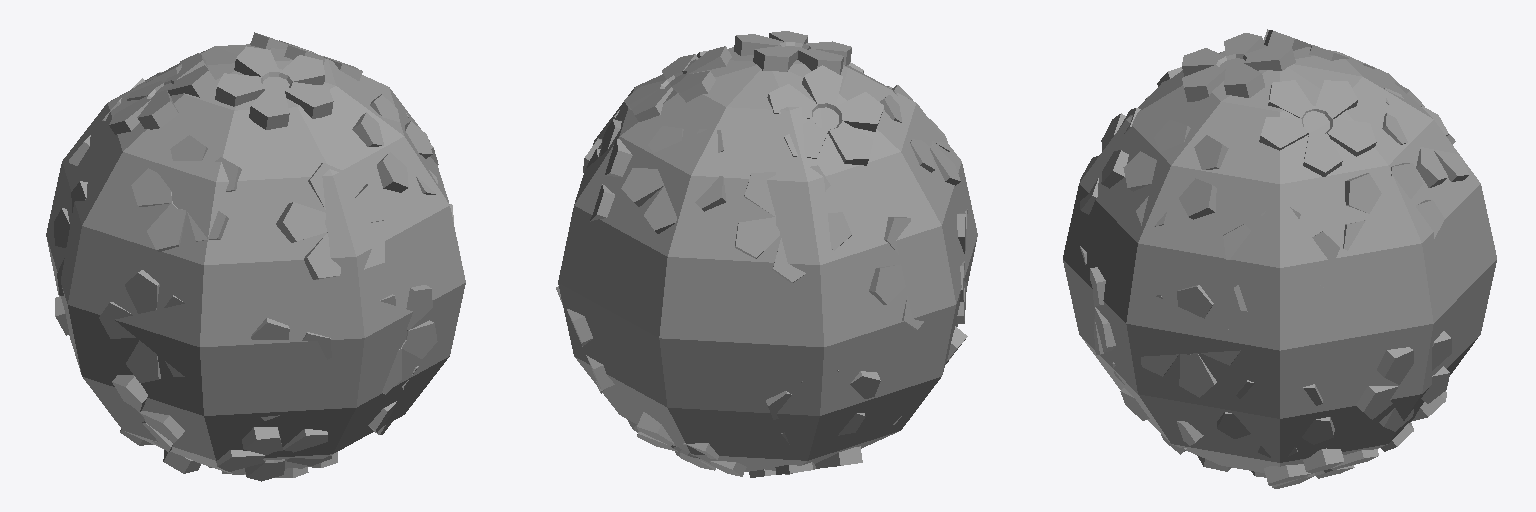
The model's file is papiloma.obj.
The picture shows the model from 3 angles: view 1: azimuth 30°, elevation 25°; view 2: azimuth 150°, elevation 25°; view 3: azimuth 270°, elevation 25°; orthographic projection.
Parts seen in each view (by area): view 1: Sphere.001, Plane.012, Plane.008_Plane.000, Plane.010_Plane.005, Plane.020_Plane.021, Plane.015_Plane.025, Plane.009_Plane.002, Plane.007_Plane.010, Plane.005_Plane.008, Plane.011, Plane.017_Plane.018, Plane.021_Plane.022 (+2 smaller); view 2: Sphere.001, Plane.020_Plane.021, Plane.014_Plane.017, Plane.012, Plane.019_Plane.020, Plane.021_Plane.022, Flor_Plane.014, Flor.001_Plane.023, Plane.010_Plane.005, Plane.004_Plane.007, Plane.022_Plane.024, Plane.016 (+2 smaller); view 3: Sphere.001, Plane.021_Plane.022, Plane.012, Plane.007_Plane.010, Sphere, Plane.001_Plane.003, Plane.004_Plane.007, Plane.013, Plane.019_Plane.020, Plane.003_Plane.006, Plane.008_Plane.000, Plane.002_Plane.004 (+4 smaller).
Part boxes in pixels (x1,y1,x2,y2): Sphere.001: (46,44,465,474); Plane.012: (215,46,333,129); Plane.008_Plane.000: (276,163,388,279); Plane.010_Plane.005: (131,135,241,251); Plane.020_Plane.021: (109,53,216,134); Plane.015_Plane.025: (216,427,331,481); Plane.009_Plane.002: (99,270,184,382); Plane.007_Plane.010: (352,94,437,194); Plane.005_Plane.008: (380,285,437,394); Plane.011: (112,375,184,451); Plane.017_Plane.018: (251,318,331,420); Plane.021_Plane.022: (250,32,362,80); Sphere.001: (558,47,977,474); Plane.020_Plane.021: (767,65,883,165); Plane.014_Plane.017: (735,165,851,282); Plane.012: (734,31,851,74); Plane.019_Plane.020: (621,126,726,233); Plane.021_Plane.022: (624,46,731,121); Flor_Plane.014: (869,217,923,329); Flor.001_Plane.023: (637,412,746,476); Plane.010_Plane.005: (880,85,960,185); Plane.004_Plane.007: (587,119,632,221); Plane.022_Plane.024: (766,370,880,444); Plane.016: (749,446,862,477); Sphere.001: (1063,45,1496,472); Plane.021_Plane.022: (1259,80,1376,176); Plane.012: (1182,33,1295,101); Plane.007_Plane.010: (1123,120,1228,226); Sphere: (1356,331,1451,431); Plane.001_Plane.003: (1141,285,1240,397); Plane.004_Plane.007: (1343,163,1444,250); Plane.013: (1264,448,1378,488); Plane.019_Plane.020: (1382,88,1468,187); Plane.003_Plane.006: (1217,380,1334,457); Plane.008_Plane.000: (1080,108,1140,214); Plane.002_Plane.004: (1223,207,1339,312).
Size of the model in its own units: 2 by 2.09 by 2.